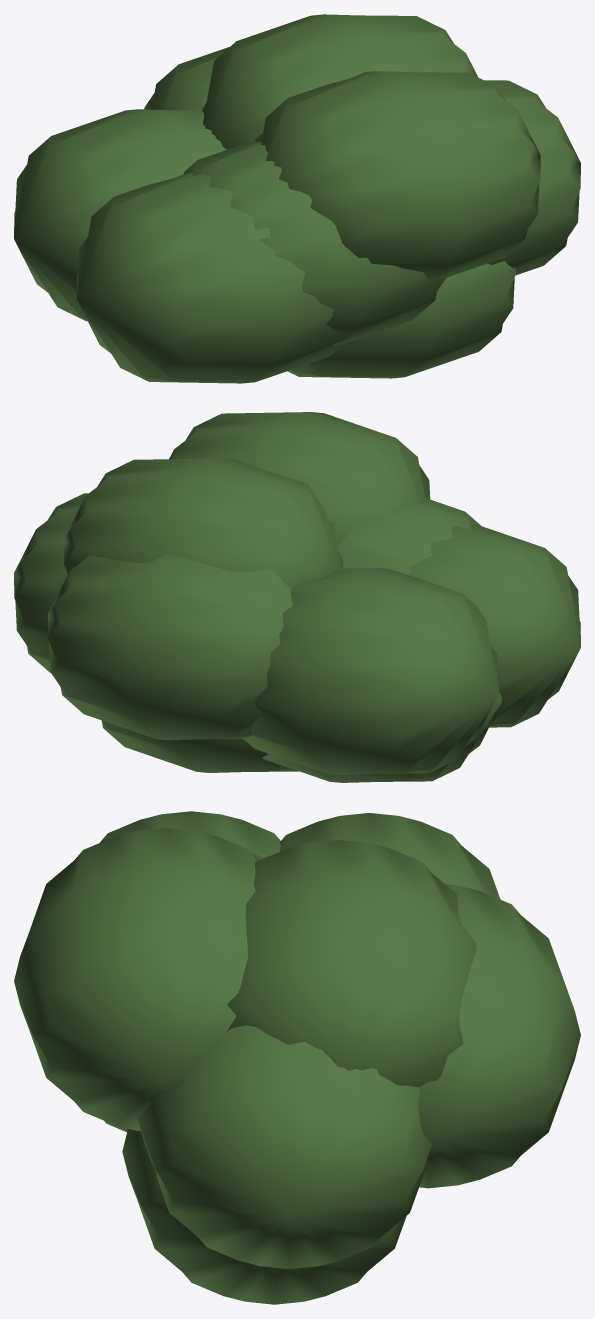
The model's file is Bush1.fbx.
The picture shows the model from 3 angles, top to bottom: view 1: azimuth 30°, elevation 25°; view 2: azimuth 150°, elevation 25°; view 3: azimuth 270°, elevation 25°; orthographic projection. The views are drawn at different scales.
Parts seen in each view (by area): view 1: Bush1; view 2: Bush1; view 3: Bush1.
Boxes of the visible parts, x1,y1,x2,y2 form: Bush1: (14, 14, 580, 383); Bush1: (14, 412, 580, 782); Bush1: (14, 811, 580, 1304).
Bounding box in the file's own units: 210 × 373 × 278.
